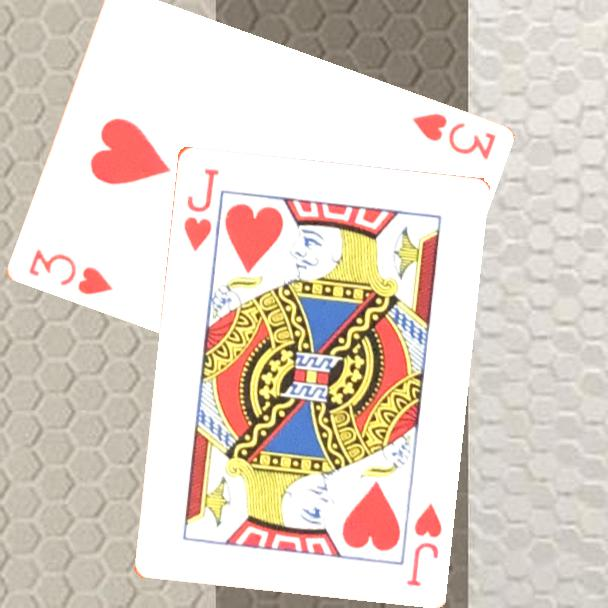h03: (24, 246, 116, 298), (408, 110, 498, 163)
h11: (179, 164, 222, 254), (402, 499, 444, 588)
